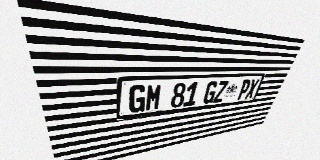1: (183, 82, 200, 107)
8: (170, 82, 187, 108)
G: (128, 84, 147, 113), (202, 81, 219, 104)
M: (145, 84, 163, 111)
P: (236, 79, 252, 100)
X: (244, 79, 260, 99)
Z: (212, 80, 229, 103)
